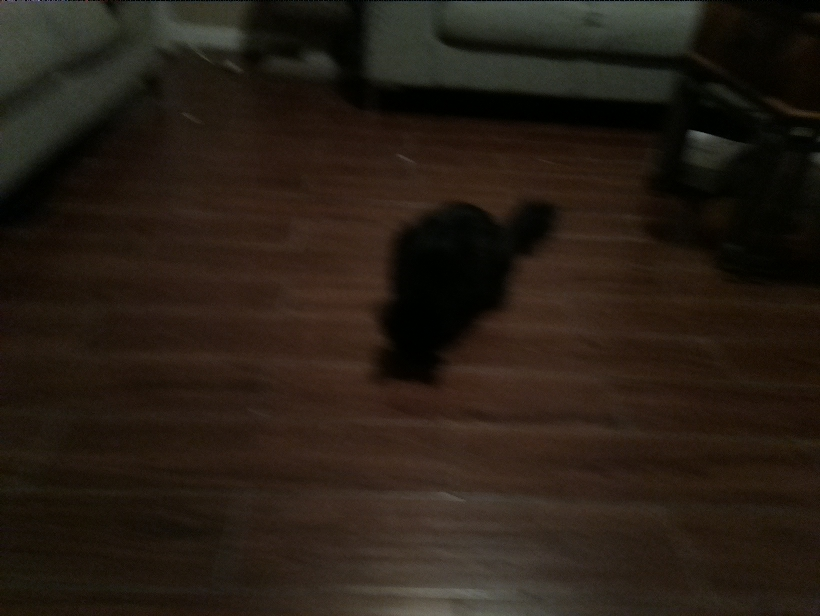cat: (369, 186, 563, 384)
